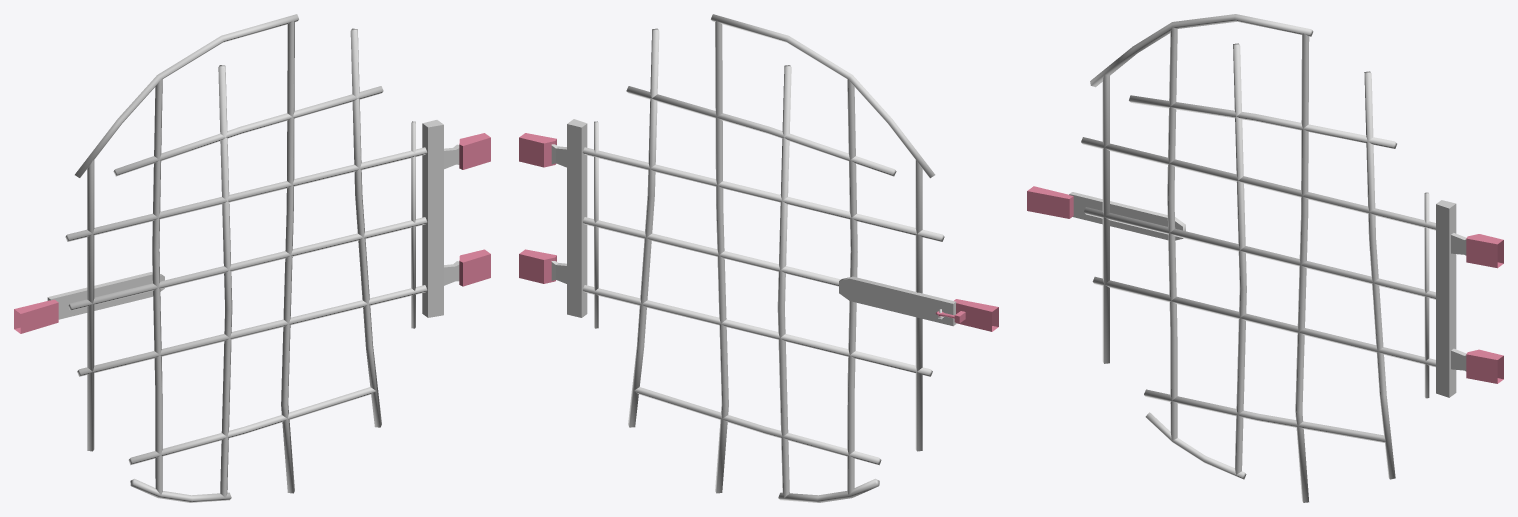
Rendered from TLRPipePuzzels.fbx.
3 views of the same model, side by side, from view 1: azimuth 30°, elevation 25°; view 2: azimuth 150°, elevation 25°; view 3: azimuth 330°, elevation 25° (orthographic).
Visible parts, largest first — view 1: HekPuzzelPipe, ConncetorPuzzelPipe, SlotPuzzelPipe; view 2: HekPuzzelPipe, ConncetorPuzzelPipe, SlotPuzzelPipe; view 3: HekPuzzelPipe, ConncetorPuzzelPipe, SlotPuzzelPipe.
Boxes of the visible parts, <box> form: HekPuzzelPipe: <box>47,14,459,502</box>; ConncetorPuzzelPipe: <box>459,133,490,286</box>; SlotPuzzelPipe: <box>14,299,58,333</box>; HekPuzzelPipe: <box>551,14,956,502</box>; ConncetorPuzzelPipe: <box>519,133,556,283</box>; SlotPuzzelPipe: <box>954,299,998,331</box>; HekPuzzelPipe: <box>1069,14,1466,502</box>; ConncetorPuzzelPipe: <box>1466,234,1503,383</box>; SlotPuzzelPipe: <box>1027,186,1073,218</box>.
Size of the model in its own units: 89.33 by 86.23 by 4.35.
